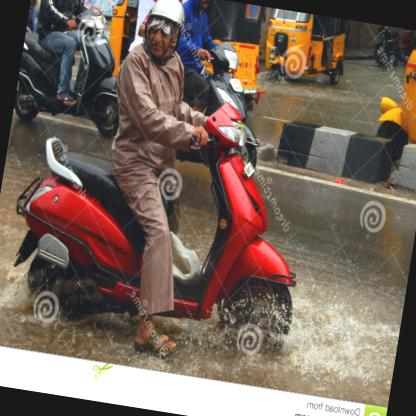motorcycle: (3, 0, 339, 374), (121, 0, 282, 169), (11, 0, 139, 137)
